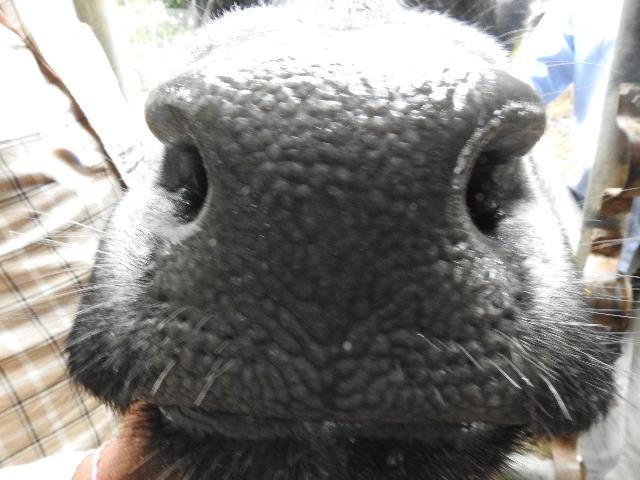Muzzle: (214, 61, 446, 408)
